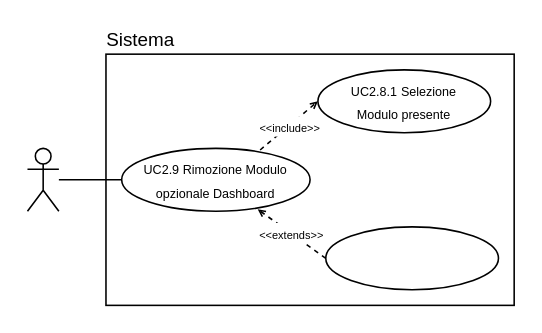
Image size: 542x333. Some labels were removed from this diagram. Here are the shapes that lost their labels. From the top down, the centre of each, then its label:
At point 42,179: "Utente".
At point 411,257: "UC2.9.1 Selezione Modulo non presente".
